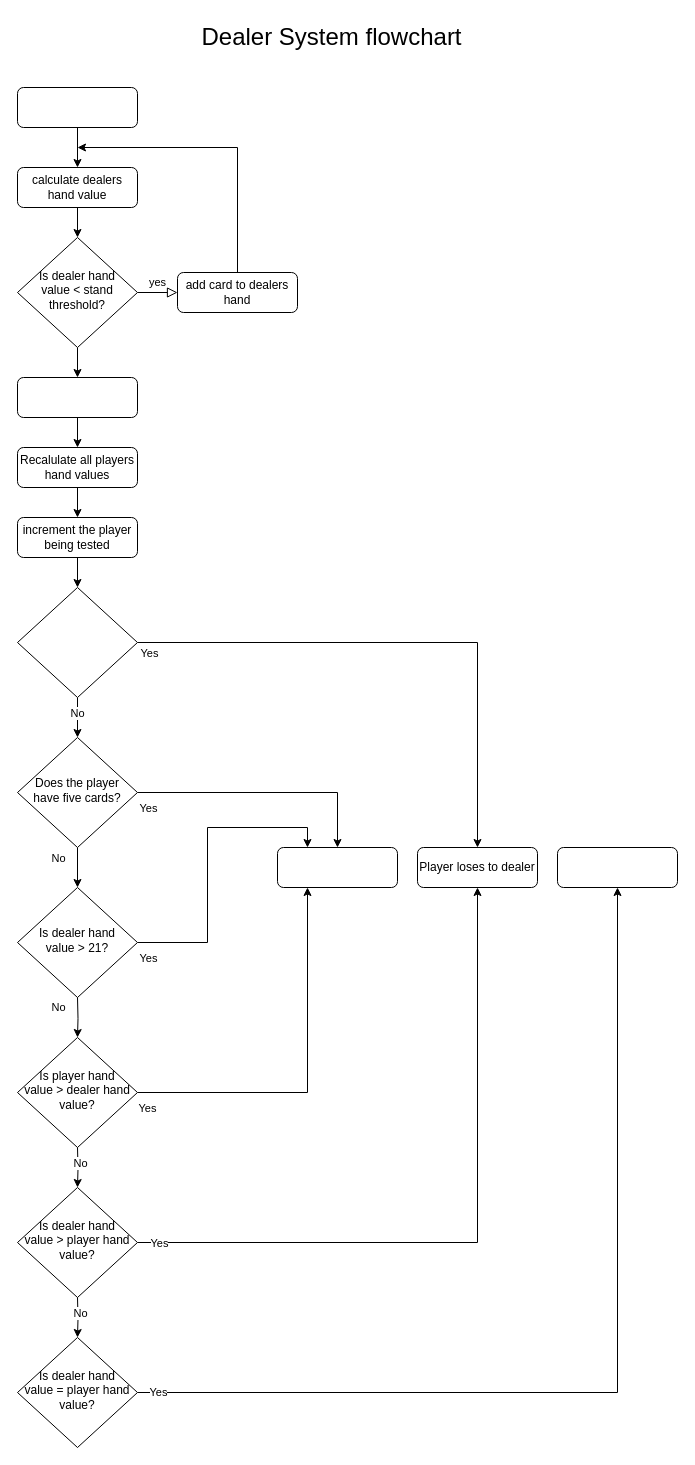
Some shapes in this 695 by 1465 pixel diagram are drawn without their labels. Each missing label, with the box of its shape:
All Player turns finished: (16, 86, 138, 128)
Dealer loses to player: (276, 846, 398, 888)
dealers turn finished: (16, 376, 138, 418)
Is player hand value > 21?: (16, 586, 138, 698)
Player and dealer tie: (556, 846, 678, 888)
